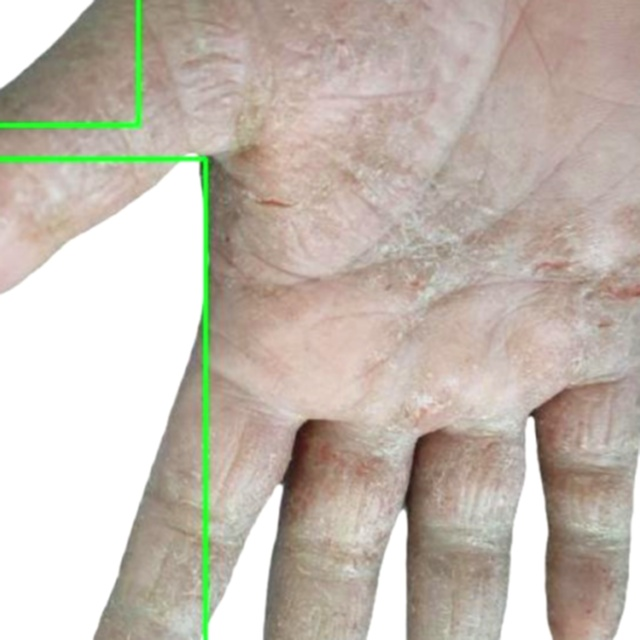Contact Dermatitis: (0, 0, 639, 639), (0, 159, 205, 639)
